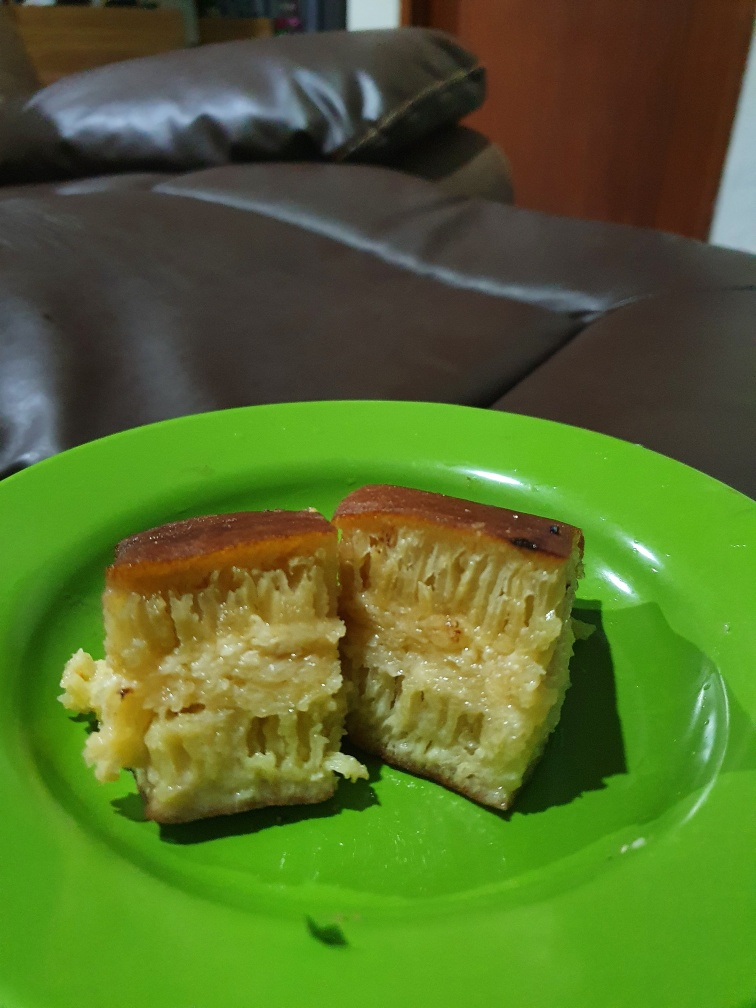martabak manis: (328, 444, 577, 815), (83, 515, 349, 816)
